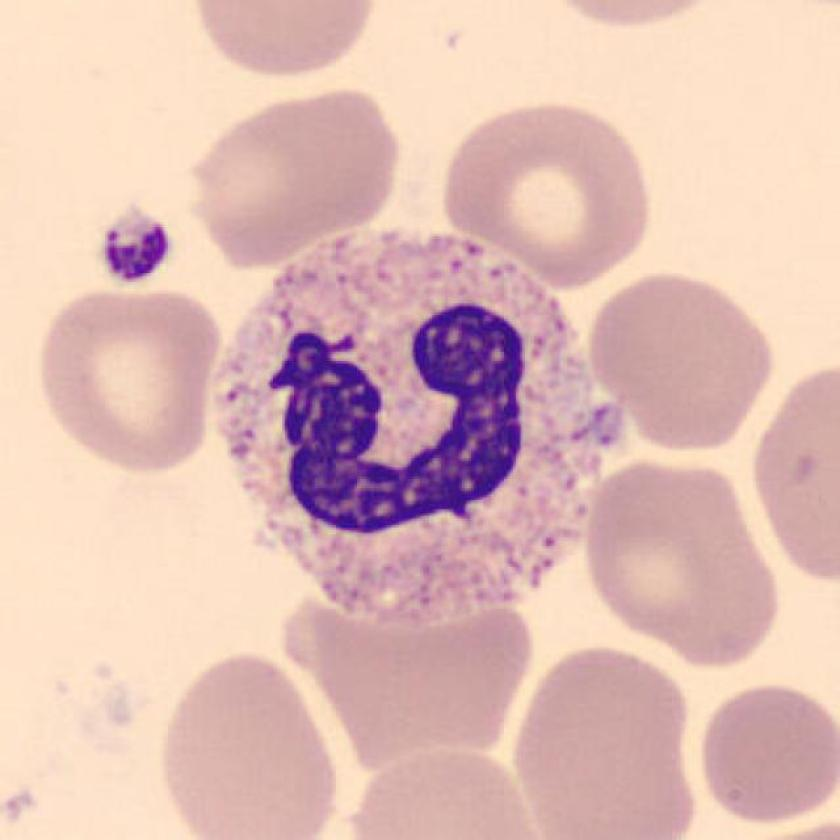neutrophil: (214, 235, 605, 625)
